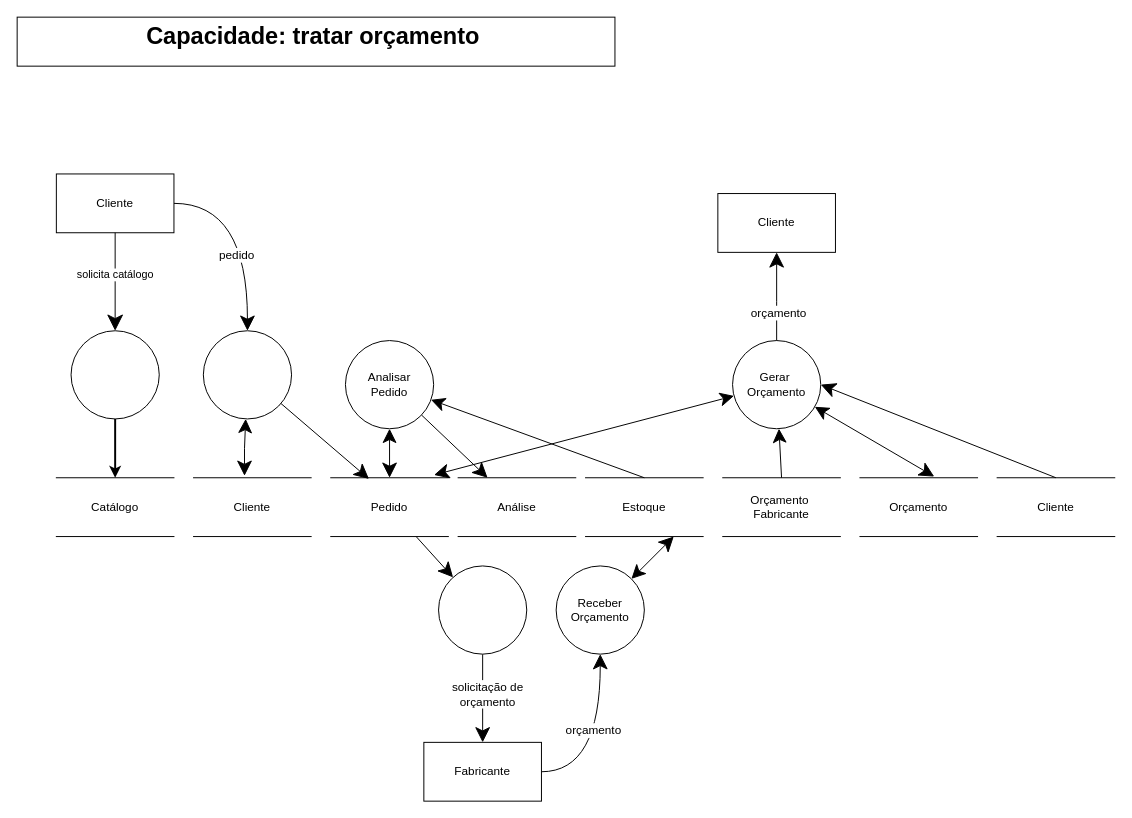
Image size: 1132x818. Some labels were removed from this diagram. The centre of each missing label's shape, as x and y in pixels:
"Entregar catálogo" goes at (x=114, y=374).
"Receber Pedido" goes at (x=247, y=374).
"Solicitar Cotação de Formas" goes at (x=482, y=609).
